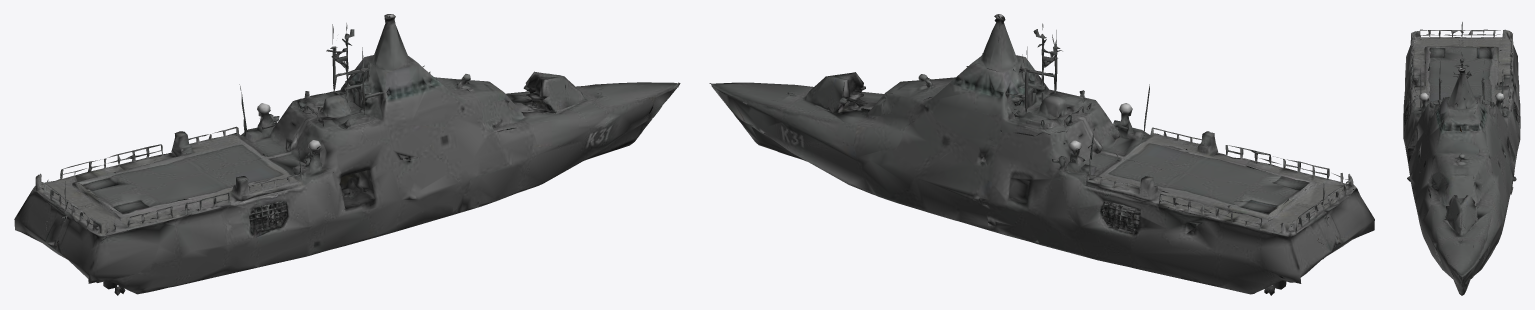
Rendered from destroyer.glb.
3 renders of one model, left to right at view 1: azimuth 30°, elevation 25°; view 2: azimuth 150°, elevation 25°; view 3: azimuth 270°, elevation 25°, orthographic. The views are drawn at different scales.
Parts seen in each view (by area): view 1: tripo_node_fce429d4-6c94-42b5-824d-c9fc79bf8088_0; view 2: tripo_node_fce429d4-6c94-42b5-824d-c9fc79bf8088_0; view 3: tripo_node_fce429d4-6c94-42b5-824d-c9fc79bf8088_0.
Boxes of the visible parts, box(x1,y1,x2,y2) form: tripo_node_fce429d4-6c94-42b5-824d-c9fc79bf8088_0: box(14, 14, 680, 295); tripo_node_fce429d4-6c94-42b5-824d-c9fc79bf8088_0: box(709, 14, 1374, 295); tripo_node_fce429d4-6c94-42b5-824d-c9fc79bf8088_0: box(1403, 22, 1520, 295).
Bounding box in the file's own units: 17.8 × 5.22 × 3.87.
1 material, 1 textured.
